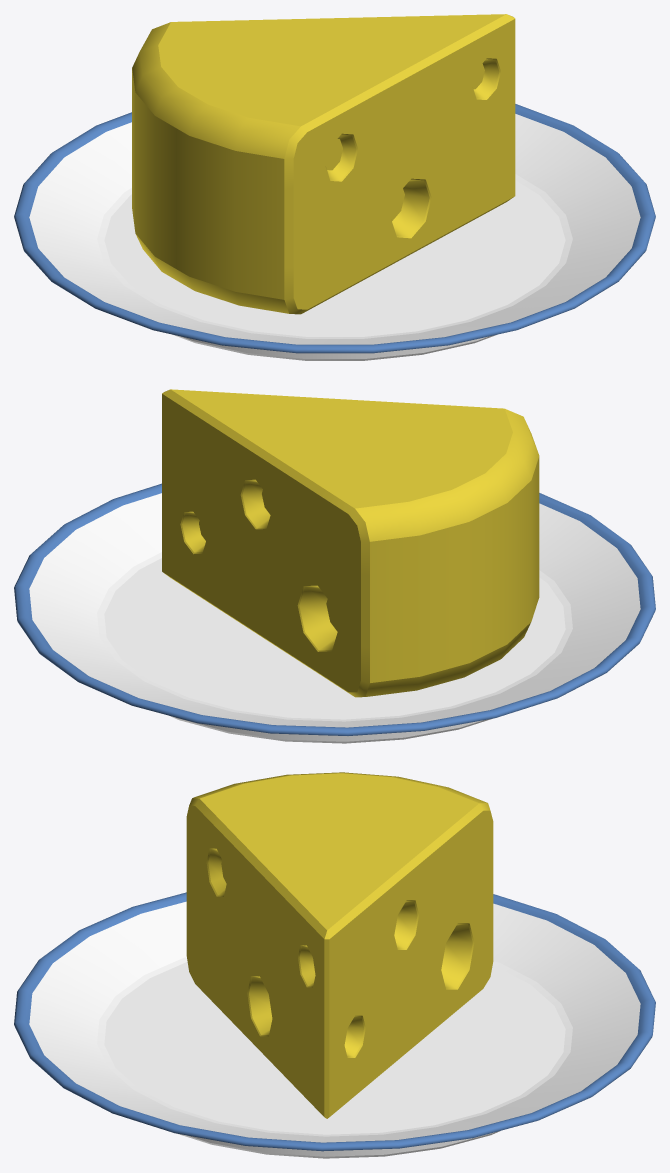
Rendered from Fridgerer_Cheese.glb.
3 views of the same model, one above another, from view 1: azimuth 30°, elevation 25°; view 2: azimuth 150°, elevation 25°; view 3: azimuth 270°, elevation 25° (orthographic).
Parts seen in each view (by area): view 1: Cheese; view 2: Cheese; view 3: Cheese.
Boxes of the visible parts, bbox=[...] form: Cheese: bbox=[14, 14, 655, 360]; Cheese: bbox=[14, 389, 655, 743]; Cheese: bbox=[14, 772, 655, 1158].
Size of the model in its own units: 0.2742 by 0.0969 by 0.2735.
Materials: 2 (1 with a texture image).
